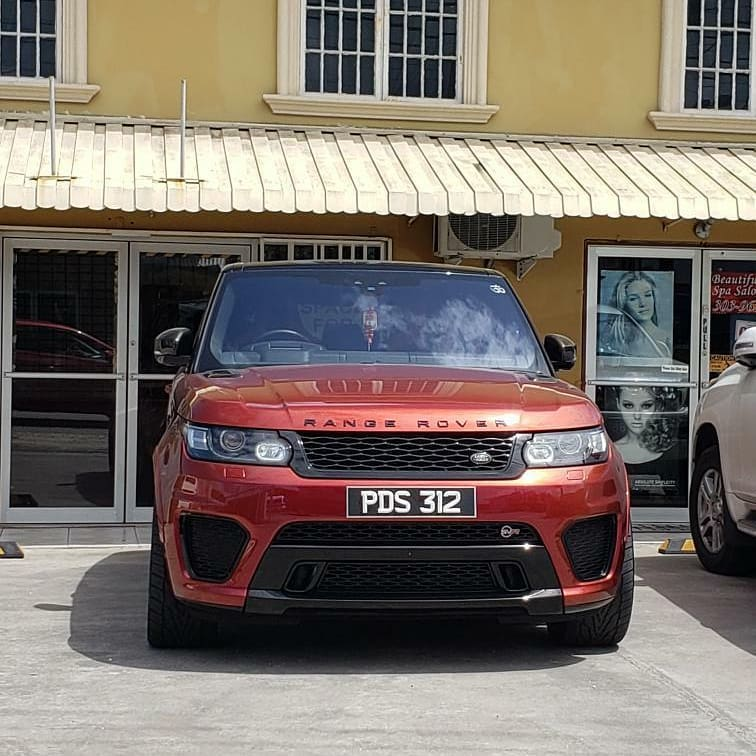License-Plate: (347, 486, 474, 515)
